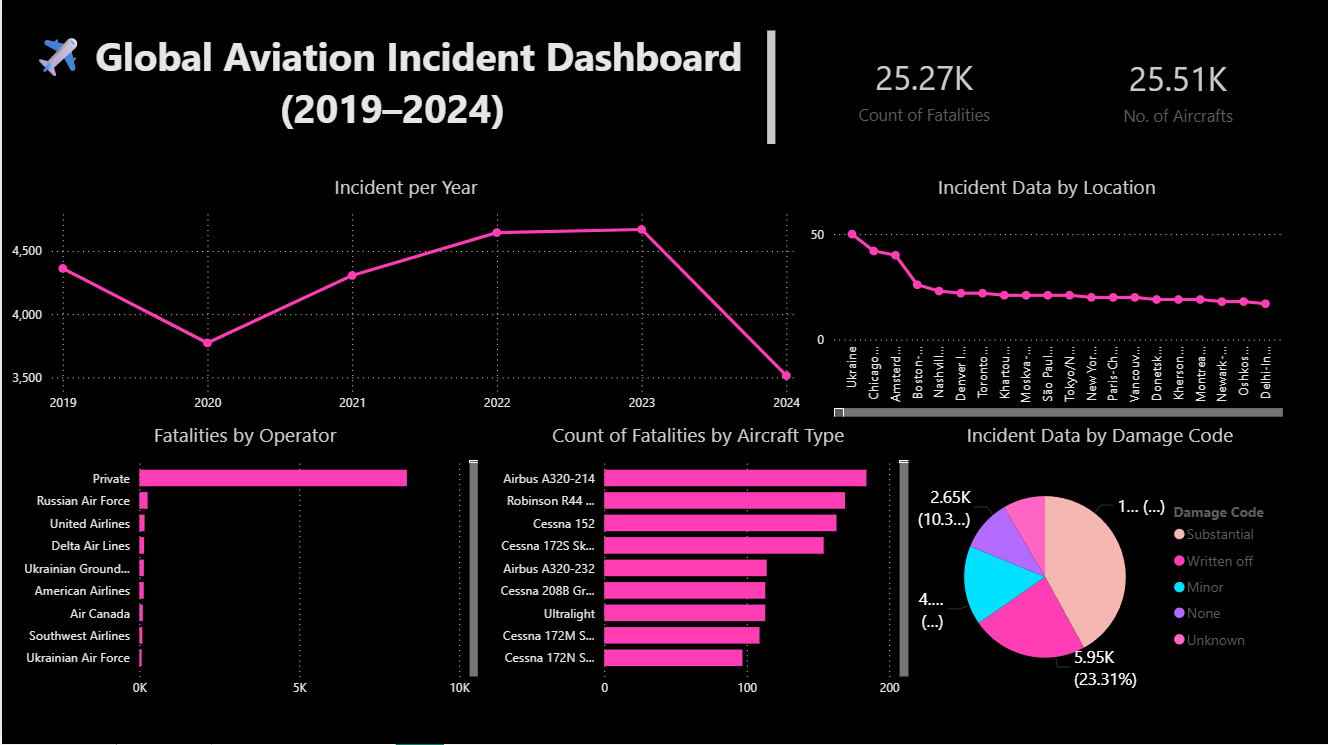

The page's visual inventory and layout, read from the dashboard file:
{"tool":"powerbi","page":{"name":"Page 2","canvas":[1280,720],"ordinal":0},"visuals":[{"type":"textbox","box":[9.8,0,742.3,123.5],"z":0},{"type":"card","fields":{"Values":["CountNonNull(Airline_Scraped_Data_2019-2024(October).Fatalities)"]},"box":[775.3,7.3,254.3,116.2],"z":1},{"type":"card","fields":{"Values":["CountNonNull(Airline_Scraped_Data_2019-2024(October).Registration)"]},"box":[1040,8.4,228,119.4],"z":2},{"type":"lineChart","title":"Incident per Year","fields":{"Category":["Airline_Scraped_Data_2019-2024(October).Year"],"Y":["CountNonNull(Airline_Scraped_Data_2019-2024(October).Incident Outcome)"]},"box":[4.9,168.8,770.4,239.7],"z":3},{"type":"stackedAreaChart","title":"Incident Data by Location","fields":{"Category":["Airline_Scraped_Data_2019-2024(October).Location"],"Y":["CountNonNull(Airline_Scraped_Data_2019-2024(October).Incident Data)"]},"box":[818.1,182.2,423.1,226.2],"z":4},{"type":"barChart","title":"Fatalities by Operator","fields":{"Category":["Airline_Scraped_Data_2019-2024(October).Operator"],"Y":["CountNonNull(Airline_Scraped_Data_2019-2024(October).Fatalities)"]},"box":[37.4,416.2,427.1,267.8],"z":5},{"type":"pieChart","title":"Incident Data by Damage Code","fields":{"Category":["Airline_Scraped_Data_2019-2024(October).Damage Code"],"Y":["CountNonNull(Airline_Scraped_Data_2019-2024(October).Incident Data)"]},"box":[902.5,448.8,338.7,247],"z":6},{"type":"barChart","fields":{"Category":["Airline_Scraped_Data_2019-2024(October).Aircraft Type"],"Y":["CountNonNull(Airline_Scraped_Data_2019-2024(October).Fatalities)"]},"box":[481.8,415.8,397.4,267.8],"z":7}]}

Visuals, with their boxes in screenshot pixels (x1, y1, x2, y2), scaled from the page's 1280x720 canvas onto the 1328x745 screenshot:
textbox: region(10, 0, 780, 128)
card - CountNonNull(Airline_Scraped_Data_2019-2024(October).Fatalities): region(804, 8, 1068, 128)
card - CountNonNull(Airline_Scraped_Data_2019-2024(October).Registration): region(1079, 9, 1316, 132)
"Incident per Year" lineChart: region(5, 175, 804, 423)
"Incident Data by Location" stackedAreaChart: region(849, 189, 1288, 423)
"Fatalities by Operator" barChart: region(39, 431, 482, 708)
"Incident Data by Damage Code" pieChart: region(936, 464, 1288, 720)
barChart - Airline_Scraped_Data_2019-2024(October).Aircraft Type x CountNonNull(Airline_Scraped_Data_2019-2024(October).Fatalities): region(500, 430, 912, 707)
